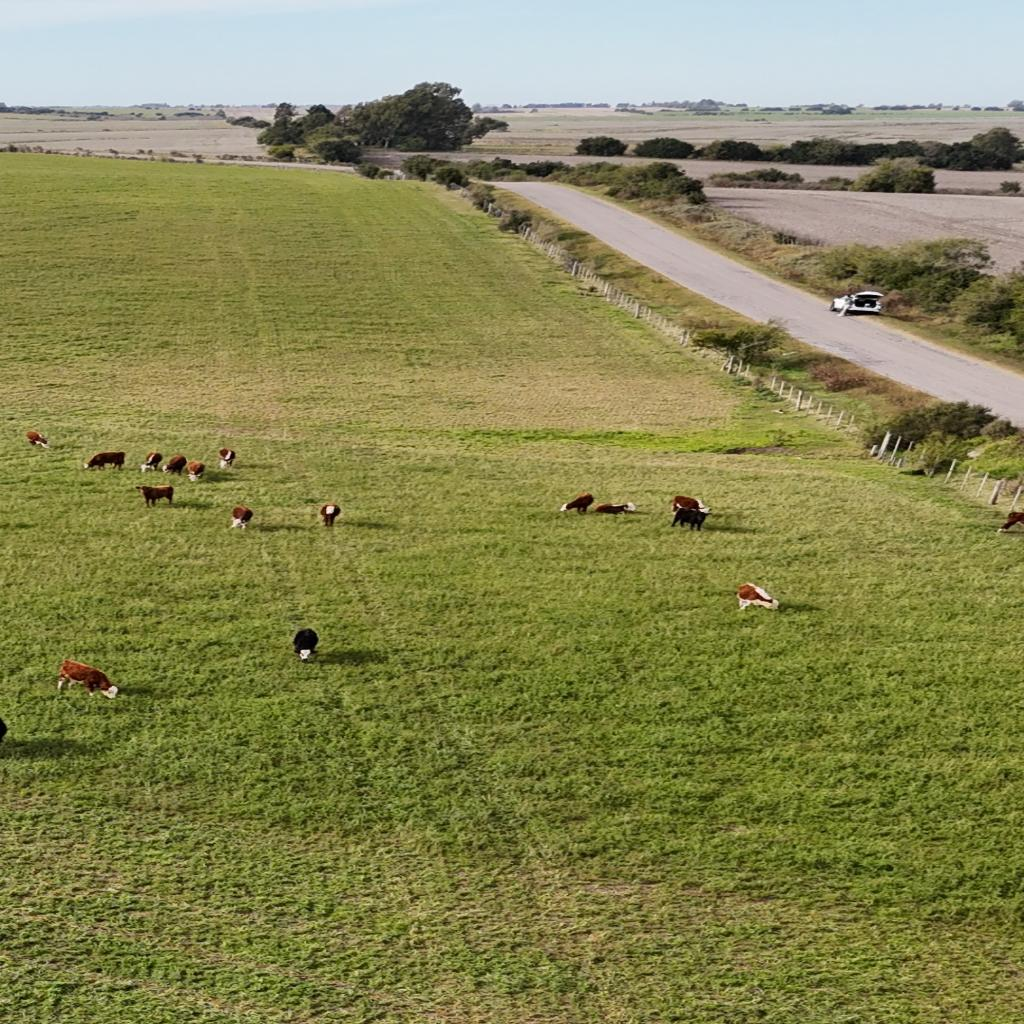cow: (56, 659, 115, 697), (735, 583, 781, 612), (671, 506, 709, 531), (135, 484, 175, 507), (291, 628, 318, 661), (84, 451, 126, 470), (557, 493, 595, 513), (229, 506, 253, 531), (592, 502, 637, 515), (317, 504, 340, 528), (163, 455, 187, 475), (138, 452, 162, 472), (26, 430, 52, 448), (185, 460, 205, 482), (218, 448, 236, 470), (81, 458, 99, 470), (687, 506, 711, 514)
